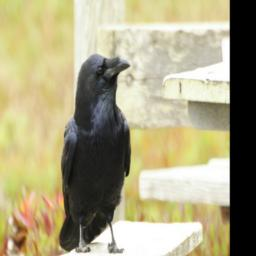Crow: (59, 53, 132, 254)
